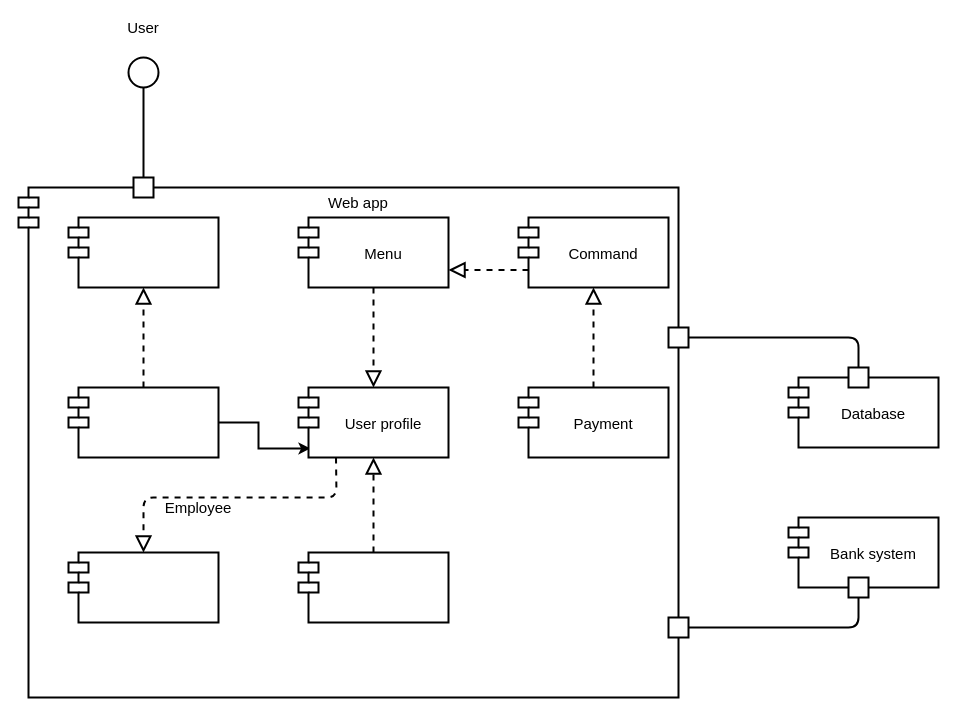
This 956x715 diagram has some shape labels left out. Here are the shapes that lost their labels. From the top down, the centre of each, then its label:
the point at 143,252: Welcome page
the point at 143,422: Authentification
the point at 143,587: Recipe
the point at 373,587: Command status
